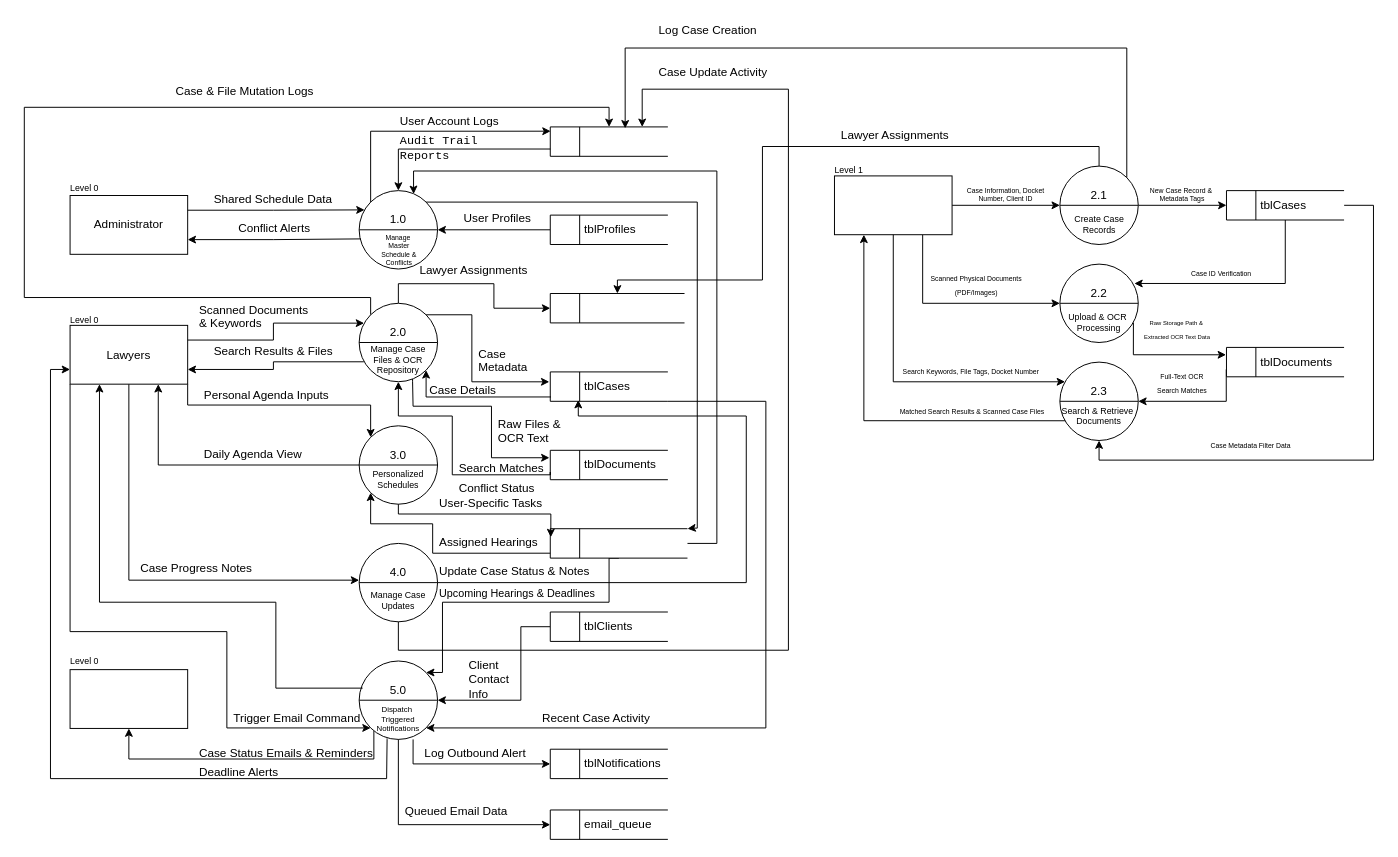
This 1398x857 diagram has some shape labels left out. Each missing label, with the box of its shape:
audit_logs: (549, 126, 668, 156)
Clients: (69, 669, 188, 728)
Lawyer: (833, 175, 952, 235)
tblCalendar_events: (549, 528, 687, 558)
tblCase_Lawyers: (549, 293, 685, 323)
